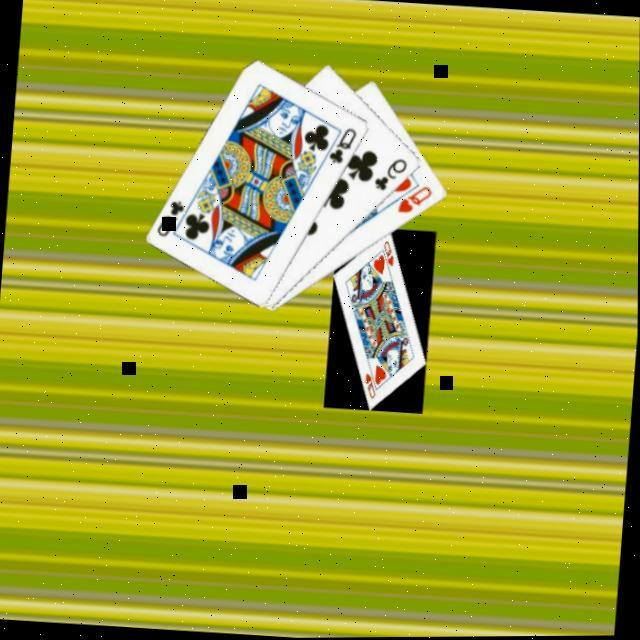9C: (371, 156, 412, 197)
QC: (154, 198, 188, 243), (326, 126, 360, 170)
QH: (396, 183, 436, 220)
